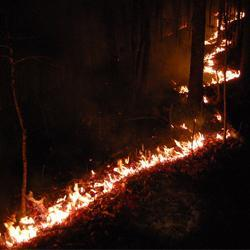fire: (4, 216, 41, 241), (44, 205, 70, 224), (179, 133, 207, 149), (206, 64, 235, 79), (69, 186, 88, 207)
